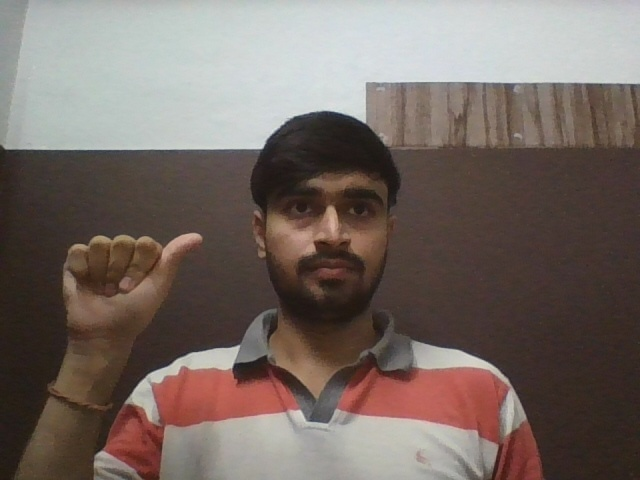A: (61, 232, 204, 347)
